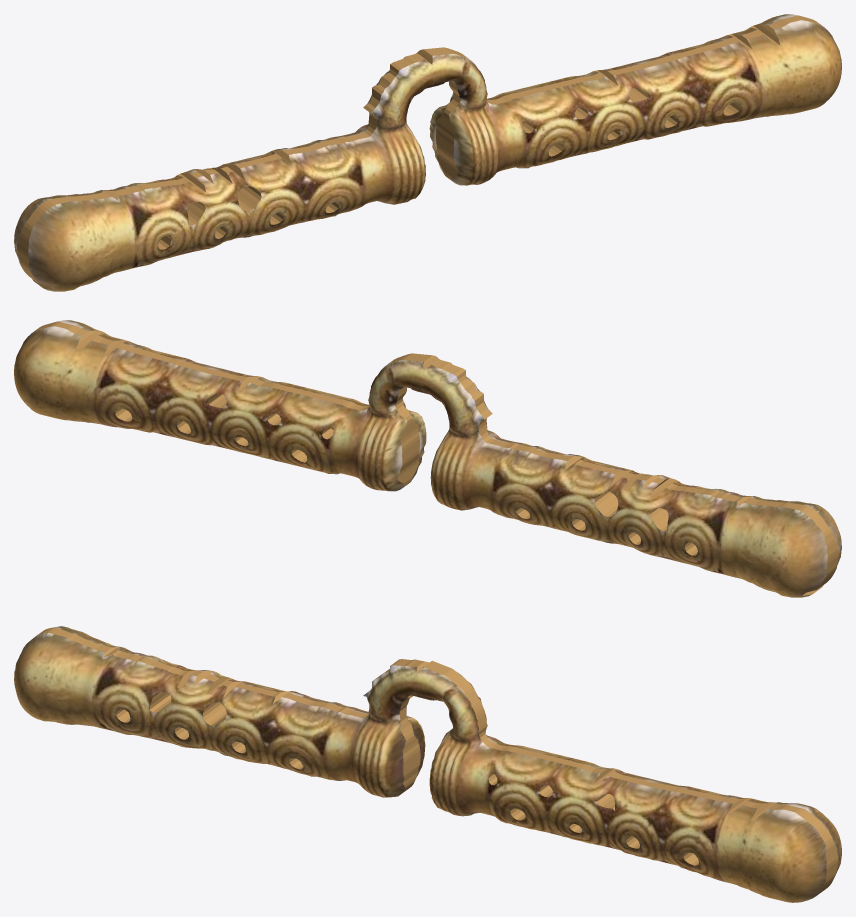
Rendered from adorno_nasal.glb.
3 renders of one model, top to bottom at view 1: azimuth 30°, elevation 25°; view 2: azimuth 150°, elevation 25°; view 3: azimuth 330°, elevation 25°, orthographic.
Visible parts, largest first — view 1: adorno_nasal; view 2: adorno_nasal; view 3: adorno_nasal.
Boxes of the visible parts, x1,y1,x2,y2 form: adorno_nasal: [14, 14, 841, 291]; adorno_nasal: [14, 320, 841, 597]; adorno_nasal: [14, 626, 841, 902].
Bounding box in the file's own units: 5.89 × 0.9941 × 0.6397.
1 material, 1 textured.
